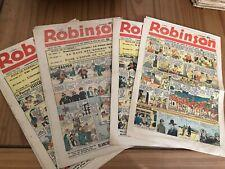paper: (0, 17, 225, 168)
